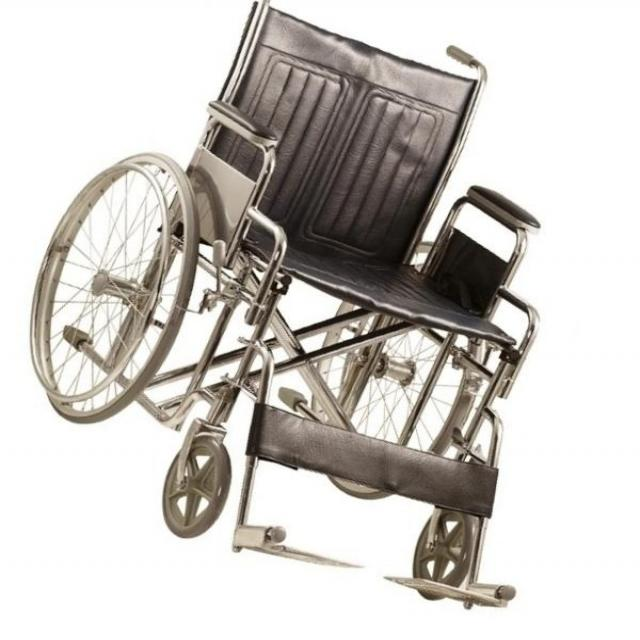wheelchair: (14, 0, 564, 630)
